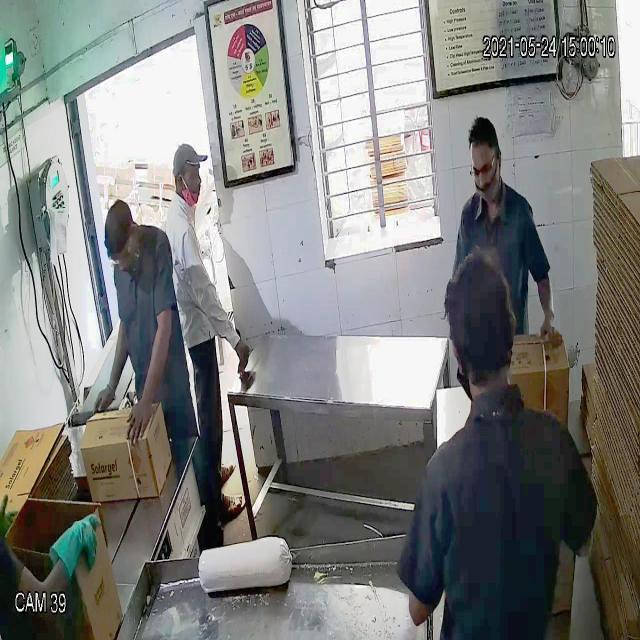glasses: (467, 151, 499, 187)
